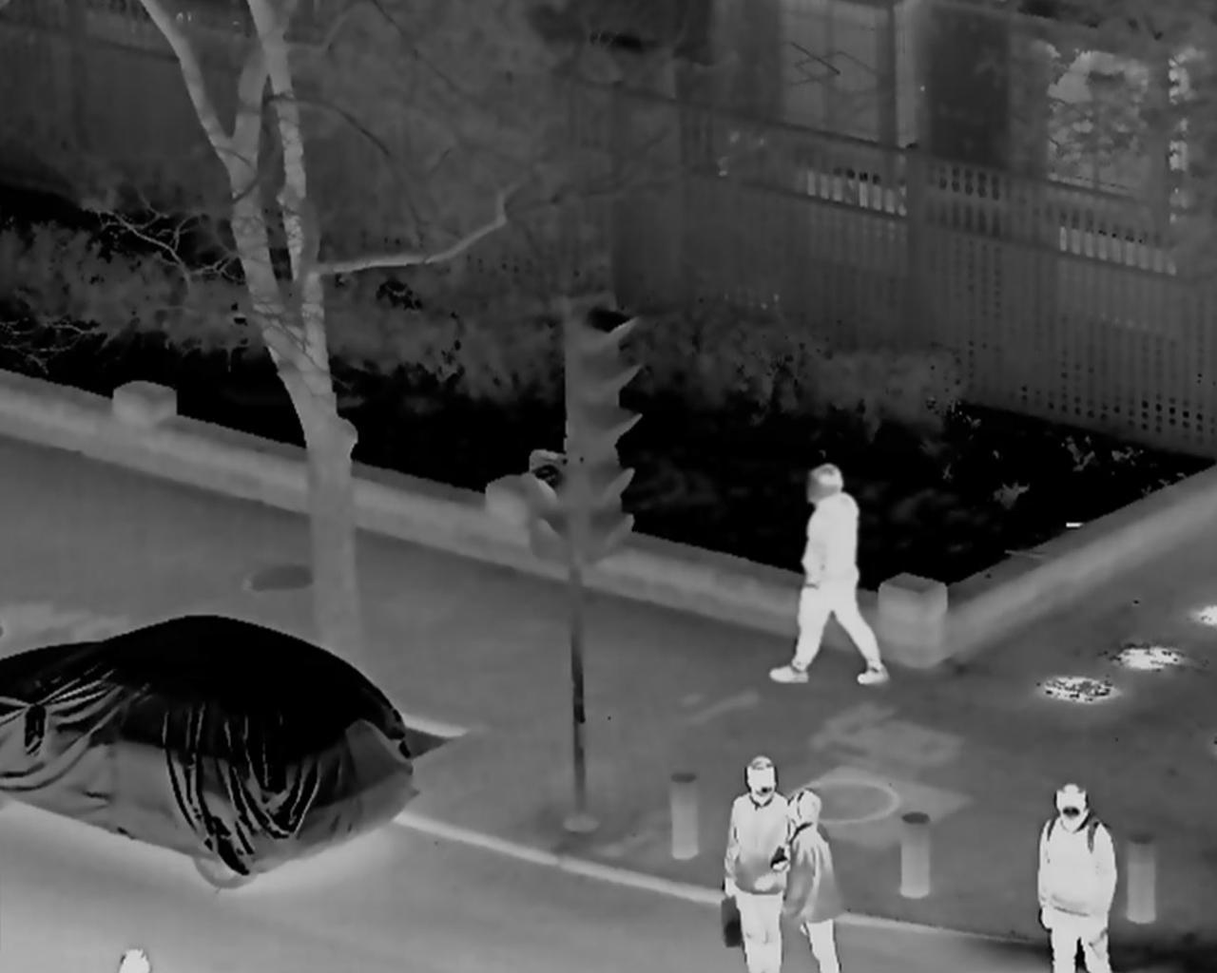person: (767, 467, 895, 688), (1033, 778, 1113, 973), (724, 757, 794, 973), (778, 790, 844, 973)
